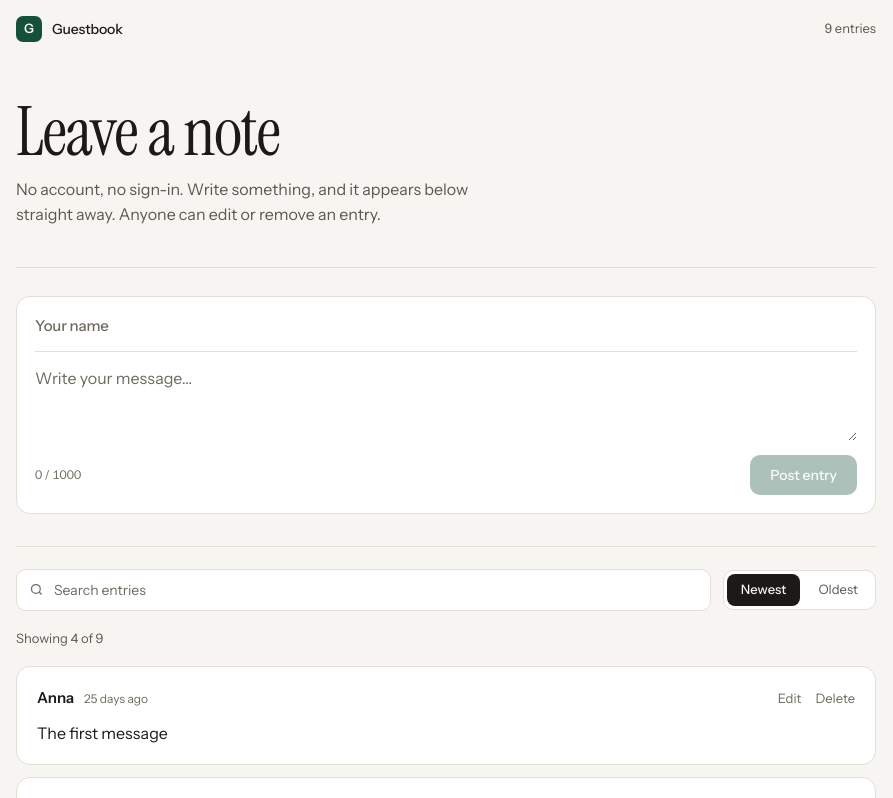
Test: searching › asks the server for the phrase rather than filtering what is on screen
This screenshot has width=893, height=798.
Expected: the text "The first message" is shown, top-left (37, 723), bottom-right (168, 743)
Type "anna" into the search field labelled "Search entries".
click(376, 590); type("anna")  # box top-left (54, 580), bottom-right (698, 600)
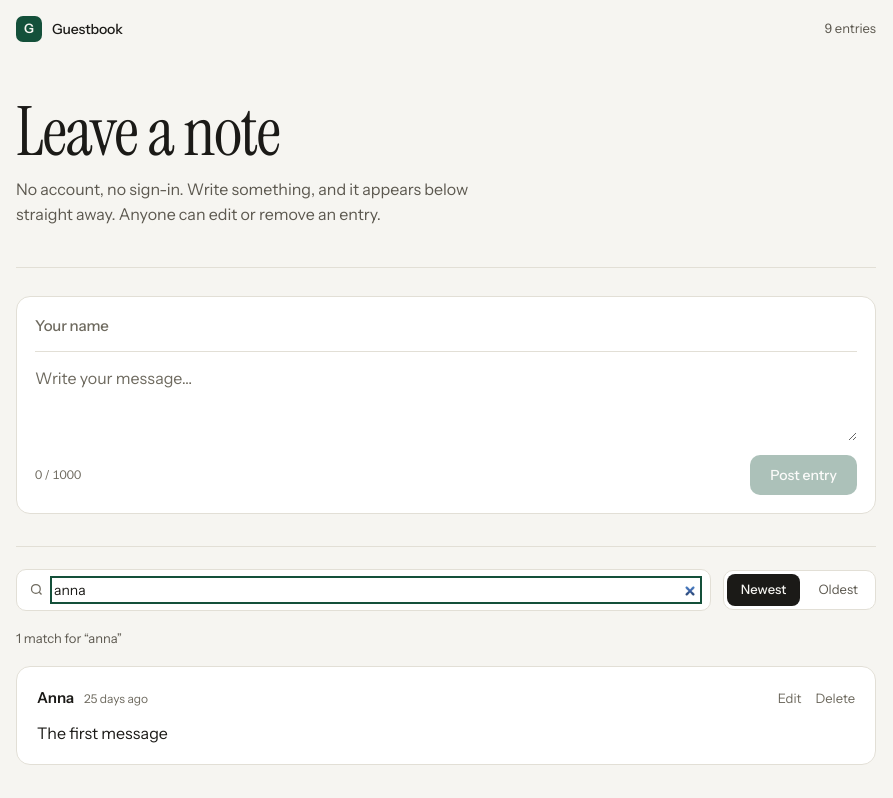
Now the text "1 match for “anna”" is shown, box top-left (16, 630), bottom-right (122, 646)
